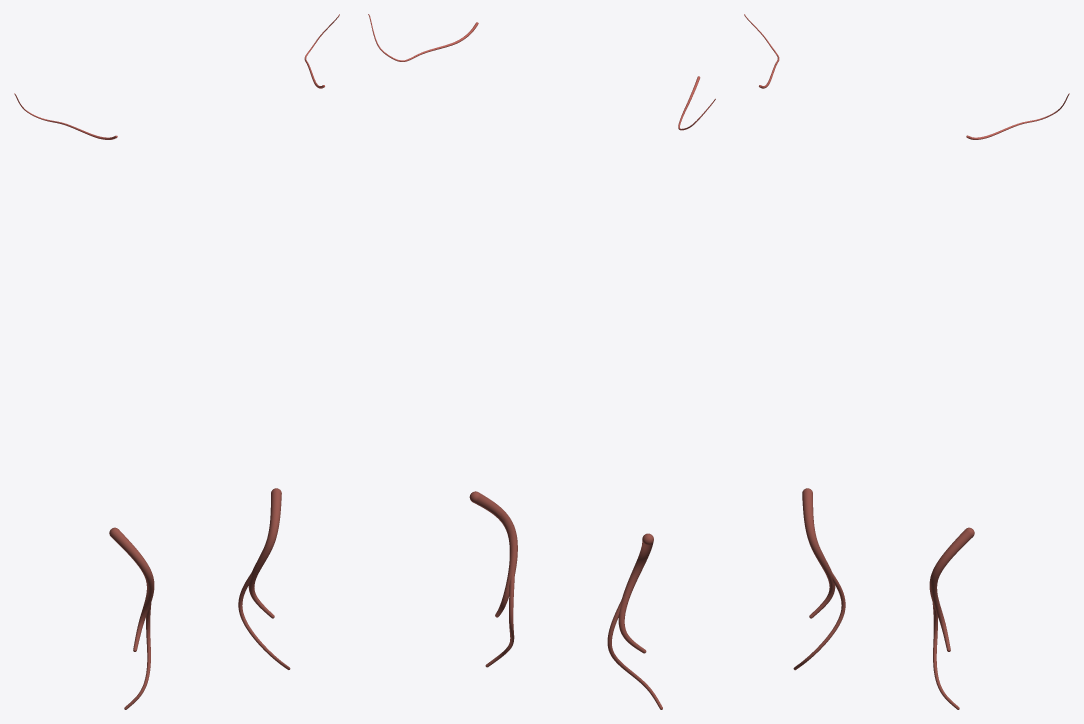
The model's file is femoral-components.glb.
The picture shows the model from 3 angles, left to right: view 1: azimuth 30°, elevation 25°; view 2: azimuth 150°, elevation 25°; view 3: azimuth 330°, elevation 25°; orthographic projection. The views are drawn at different scales.
Parts seen in each view (by area): view 1: FMA20797_FJ2069, FMA20796_FJ2137; view 2: FMA20797_FJ2069, FMA20796_FJ2137; view 3: FMA20796_FJ2137, FMA20797_FJ2069.
Boxes of the visible parts, left/top/right/bottom form: FMA20797_FJ2069: left=238, top=488, right=290, bottom=669; FMA20796_FJ2137: left=109, top=527, right=154, bottom=709; FMA20797_FJ2069: left=469, top=491, right=517, bottom=667; FMA20796_FJ2137: left=607, top=533, right=662, bottom=709; FMA20796_FJ2137: left=793, top=488, right=845, bottom=670; FMA20797_FJ2069: left=929, top=527, right=974, bottom=709.
Bounding box in the file's own units: 2.41 × 4.35 × 0.6311.
